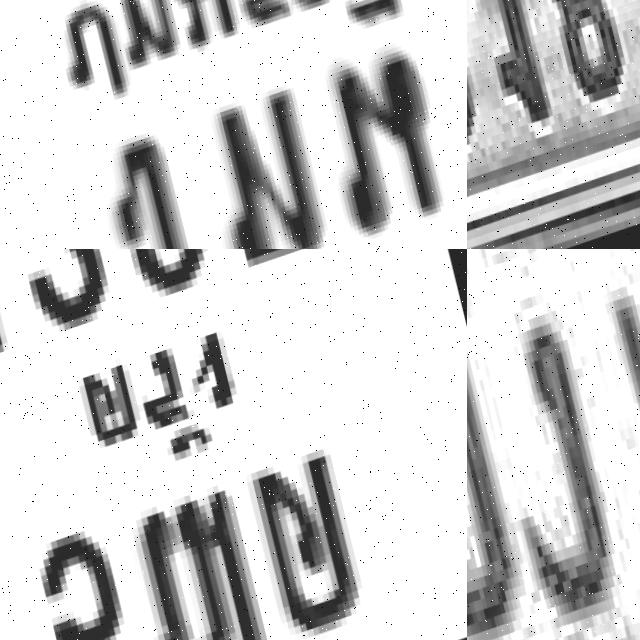license-plate: (0, 249, 467, 640), (0, 0, 467, 249), (467, 249, 640, 640), (467, 0, 640, 249)
